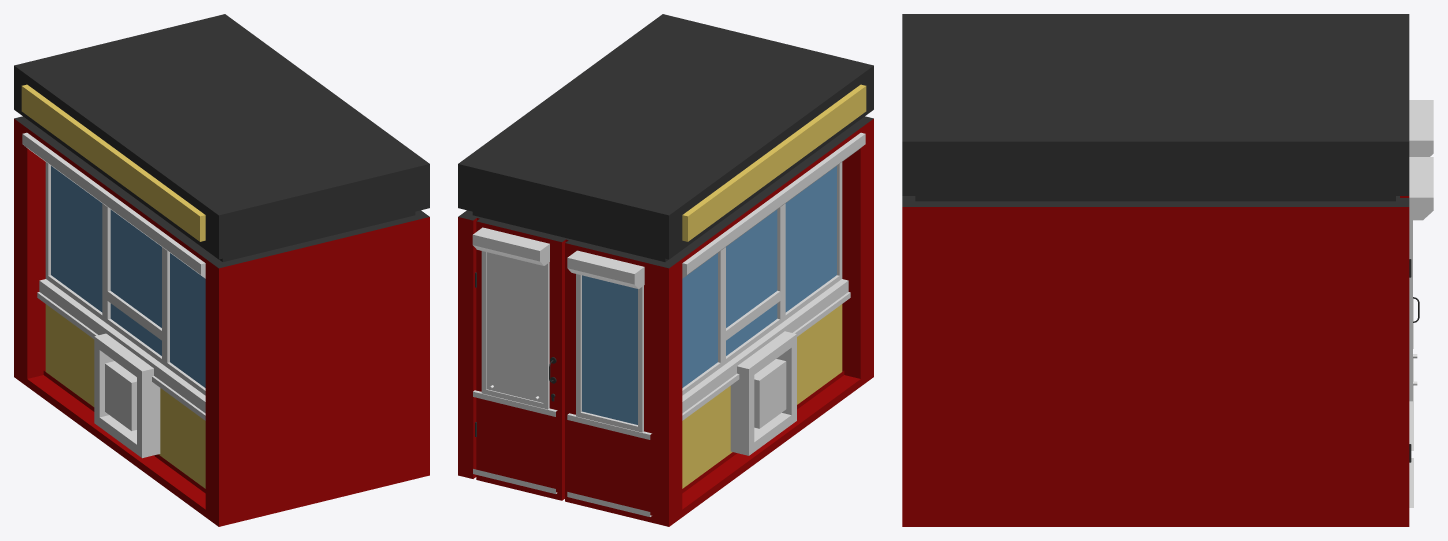
File: Paper_Stand.fbx
3 views of the same model, side by side, from view 1: azimuth 30°, elevation 25°; view 2: azimuth 150°, elevation 25°; view 3: azimuth 270°, elevation 25° (orthographic). The views are drawn at different scales.
Parts seen in each view (by area): view 1: Paper_Stand; view 2: Paper_Stand; view 3: Paper_Stand.
Part boxes in pixels (left/top/right/bottom): Paper_Stand: left=14, top=14, right=429, bottom=526; Paper_Stand: left=458, top=14, right=873, bottom=526; Paper_Stand: left=902, top=14, right=1433, bottom=526.
Size of the model in its own units: 39.52 by 54.3 by 67.85.
